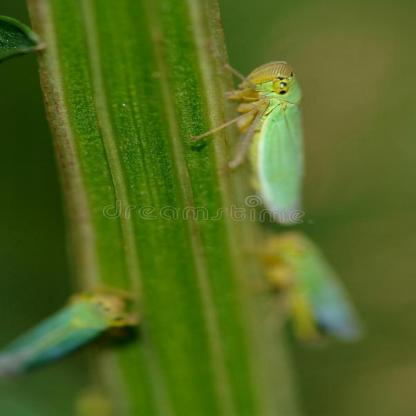green-leafhopper: (214, 54, 310, 222), (6, 280, 126, 375), (266, 235, 348, 350)
